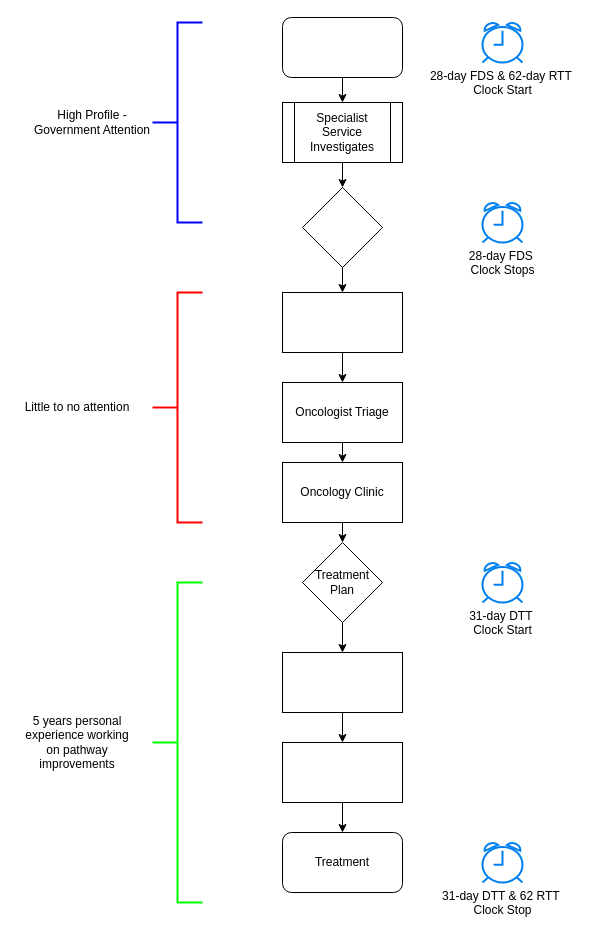
Some shapes in this 592 by 936 pixel diagram are drawn without their labels. Each missing label, with the centre of its shape:
"Cancer Susspected" belongs at pixel 342 47.
"MDT Diagnosis" belongs at pixel 342 227.
"Referral to Oncology" belongs at pixel 342 322.
"Referral to RT/SACT" belongs at pixel 342 682.
"Treatment Prep" belongs at pixel 342 772.
